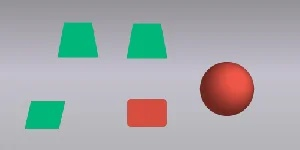圆角矩形: (125, 97, 170, 129)
平行四边形: (23, 98, 68, 131)
梯形: (124, 20, 170, 61), (56, 20, 101, 60)
球体: (198, 60, 258, 117)
